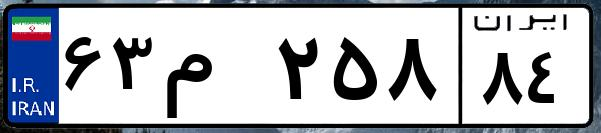2: (270, 28, 330, 110)
3: (110, 28, 158, 98)
4: (525, 38, 570, 115)
5: (330, 28, 385, 110)
6: (57, 26, 110, 100)
8: (385, 28, 445, 110), (475, 38, 525, 113)
م: (158, 20, 270, 120)
